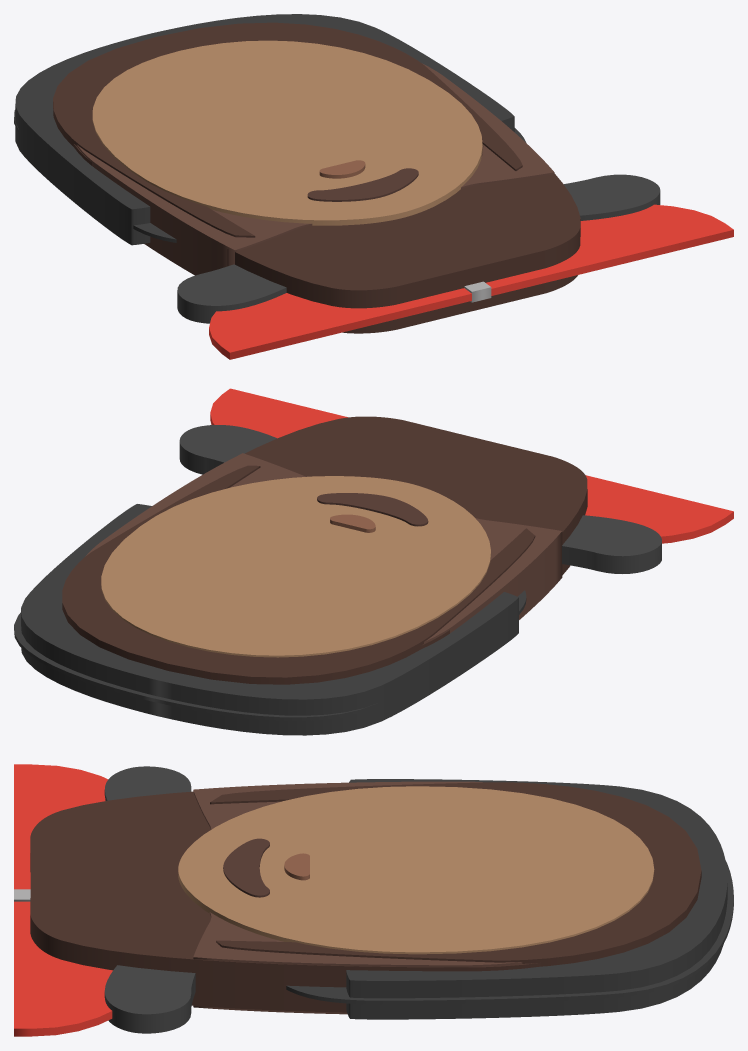
File: emoji_u1f482_1f3fd_200d_2640.glb
3 renders of one model, top to bottom at view 1: azimuth 30°, elevation 25°; view 2: azimuth 150°, elevation 25°; view 3: azimuth 270°, elevation 25°, orthographic. The views are drawn at different scales.
Parts seen in each view (by area): view 1: emoji_u1f482_1f3fd_200d_2640; view 2: emoji_u1f482_1f3fd_200d_2640; view 3: emoji_u1f482_1f3fd_200d_2640.
Boxes of the visible parts, x1,y1,x2,y2 form: emoji_u1f482_1f3fd_200d_2640: (14, 14, 733, 359); emoji_u1f482_1f3fd_200d_2640: (14, 388, 733, 735); emoji_u1f482_1f3fd_200d_2640: (14, 764, 733, 1036).
Size of the model in its own units: 0.0293 by 0.0034 by 0.0338.
